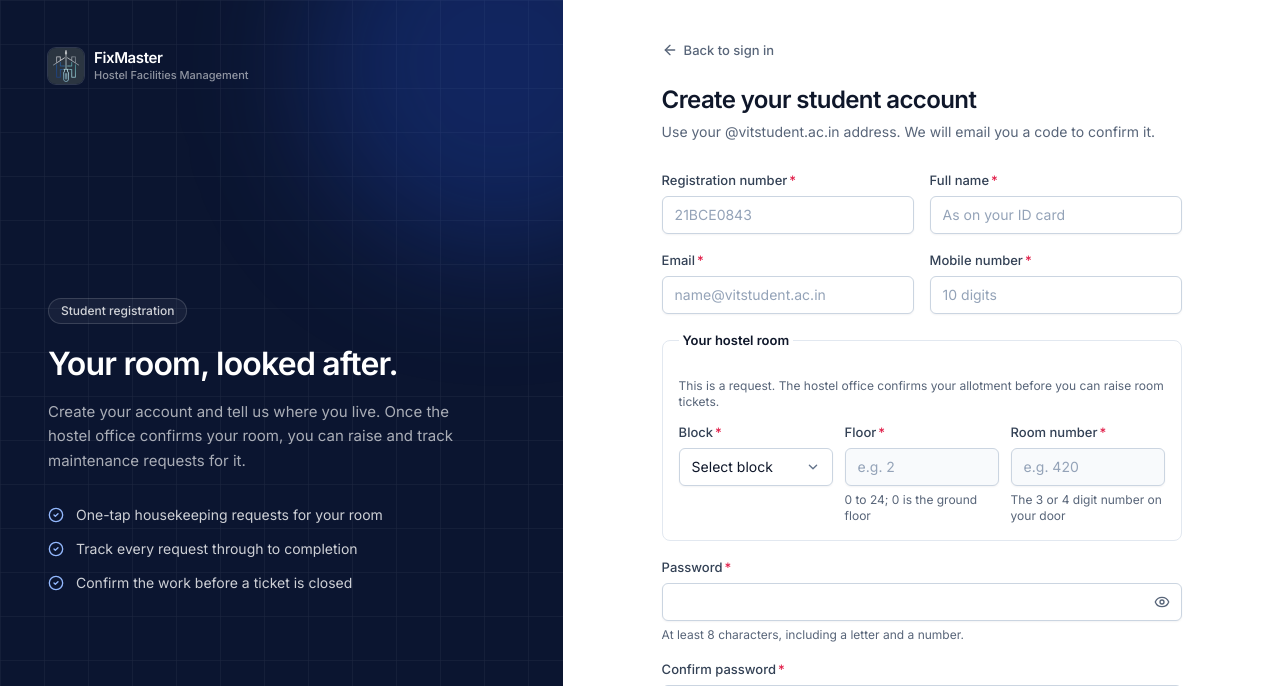
Test: RegisterScreen › allows floors 0 to 24 and room numbers of three or four digits only
The image size is (1280, 686).
Select "X Block" in the dropdown labelled "Block*": (756,467) [679,448,833,486]
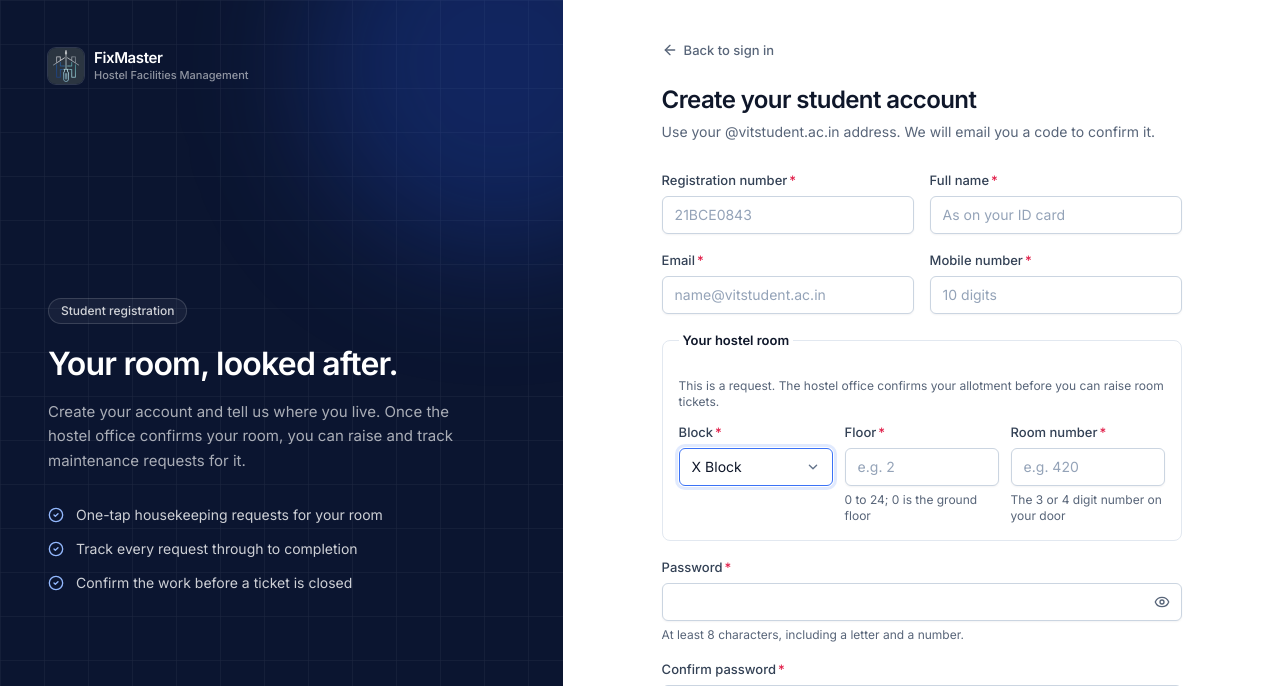
In the field labelled "Floor*": (922,467) [845,448,999,486], type "25"
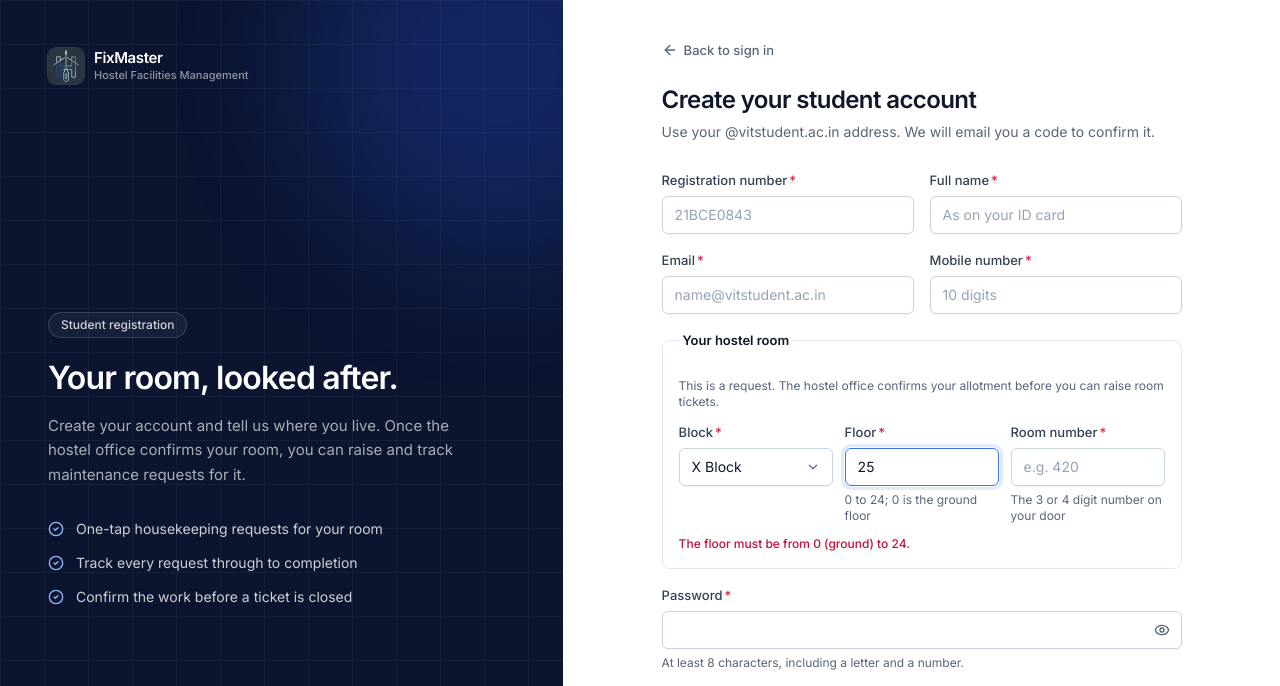
Now the text "The floor must be from 0 (ground) to 24." is shown, box [679,536,910,551]
Replace the text in the field labelled "Floor*" with "24": (922,467) [845,448,999,486]
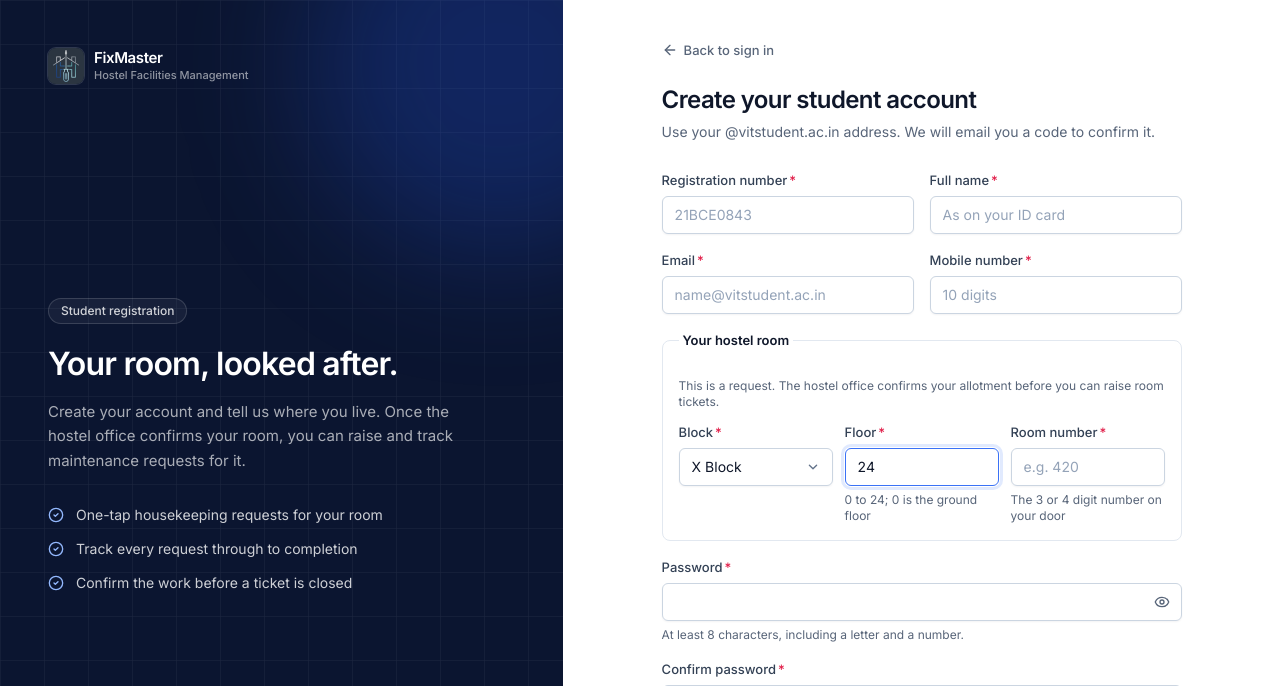
Expected: the text "The floor must be from 0" is not shown
Replace the text in the field labelled "Floor*" with "0": (922,467) [845,448,999,486]
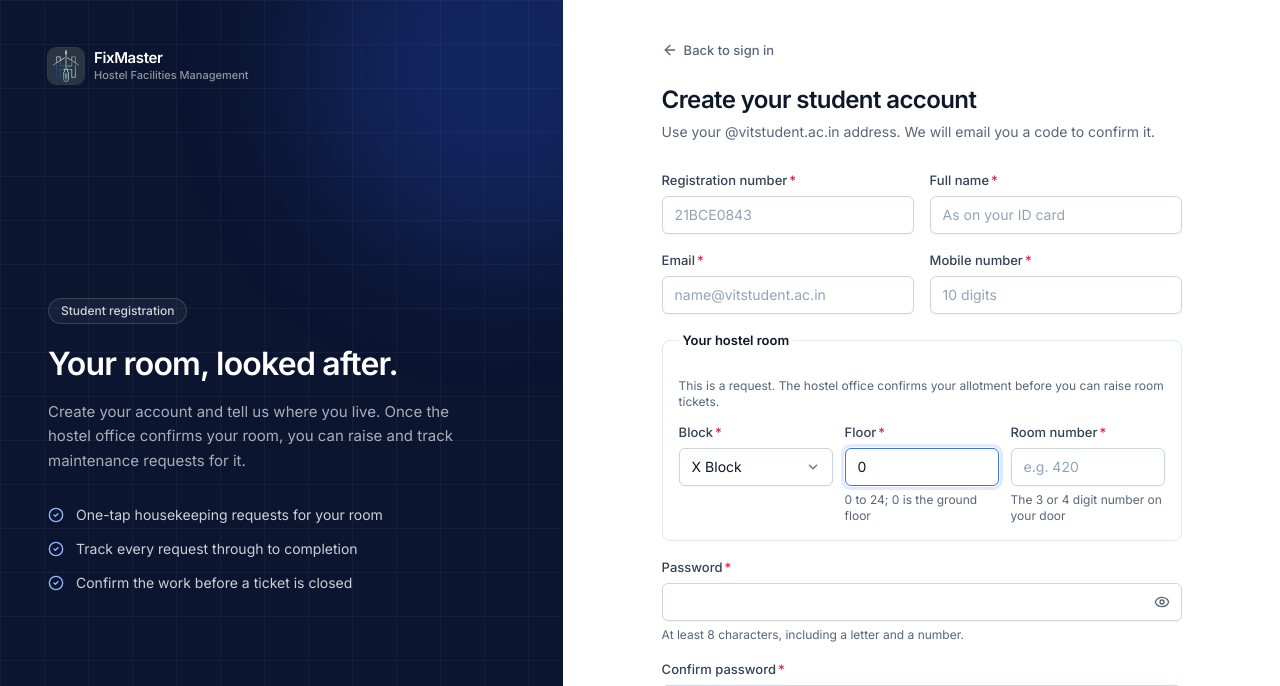
Expected: the text "The floor must be from 0" is not shown
In the field labelled "Room number*": (1088,467) [1011,448,1165,486], type "12345"
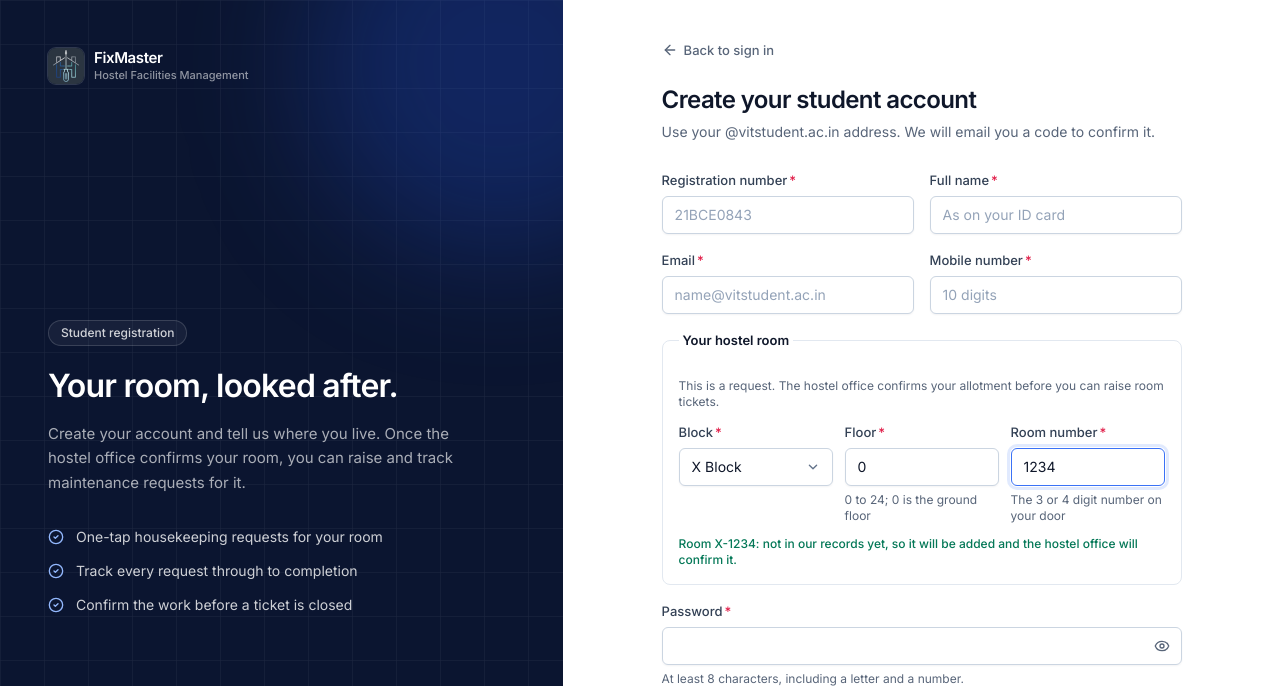
Now the field labelled "Room number*" holds "1234"
Replace the text in the field labelled "Room number*" with "0a12": (1088,467) [1011,448,1165,486]
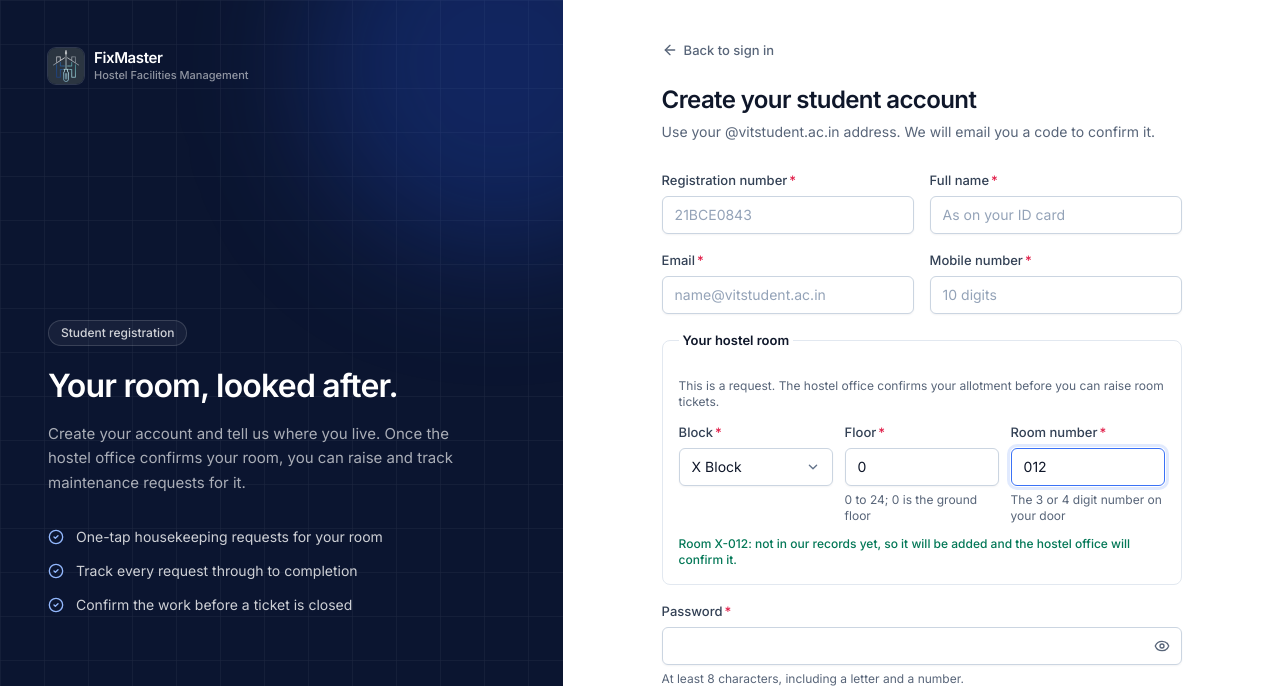
Now the field labelled "Room number*" holds "012", box [1011,448,1165,486]
Now the text "Room X-012: not in our records yet" is shown, box [679,536,1130,567]
